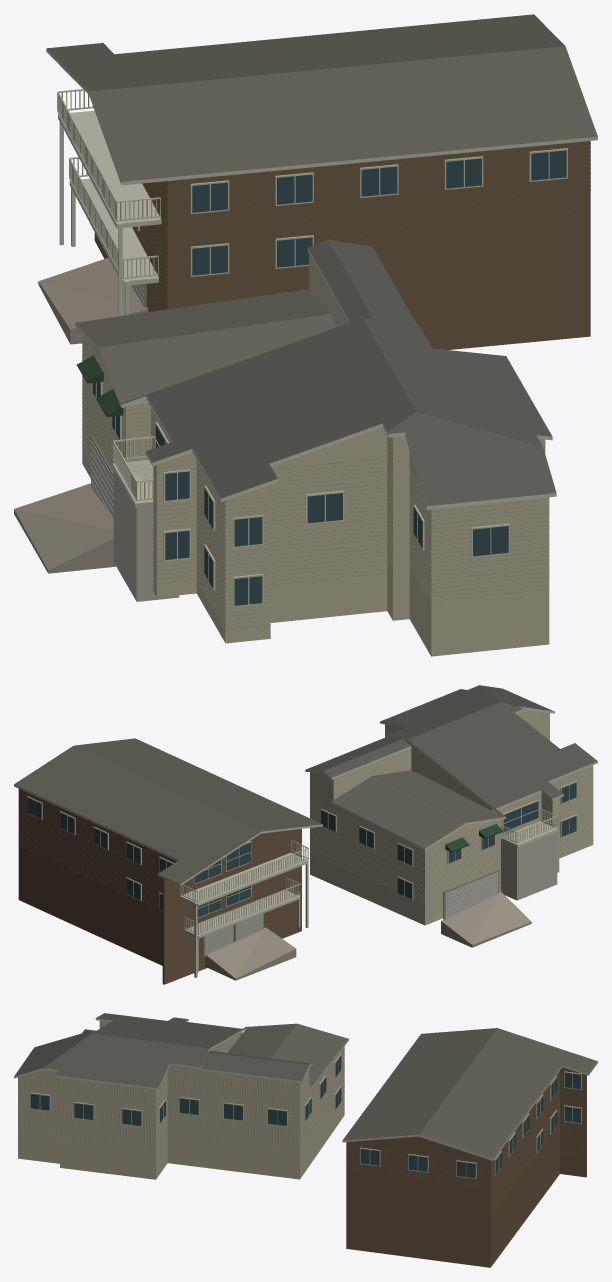
Rendered from site.glb.
3 views of the same model, one above another, from view 1: azimuth 30°, elevation 25°; view 2: azimuth 150°, elevation 25°; view 3: azimuth 270°, elevation 25° (orthographic). The views are drawn at different scales.
Visible parts, largest first — view 1: roof-ceb2cf04, sunset-362, sunset-drive-pair-approaches; view 2: sunset-362, roof-ceb2cf04, sunset-drive-pair-approaches; view 3: roof-ceb2cf04, sunset-362.
Boxes of the visible parts, <box> form: roof-ceb2cf04: <box>75,239,556,656</box>; sunset-362: <box>46,14,597,349</box>; sunset-drive-pair-approaches: <box>14,258,148,573</box>; sunset-362: <box>14,738,322,984</box>; roof-ceb2cf04: <box>305,685,597,925</box>; sunset-drive-pair-approaches: <box>205,891,531,980</box>; roof-ceb2cf04: <box>14,1013,348,1179</box>; sunset-362: <box>342,1028,597,1267</box>.
Size of the model in its own units: 30.9 by 10.94 by 41.26.
